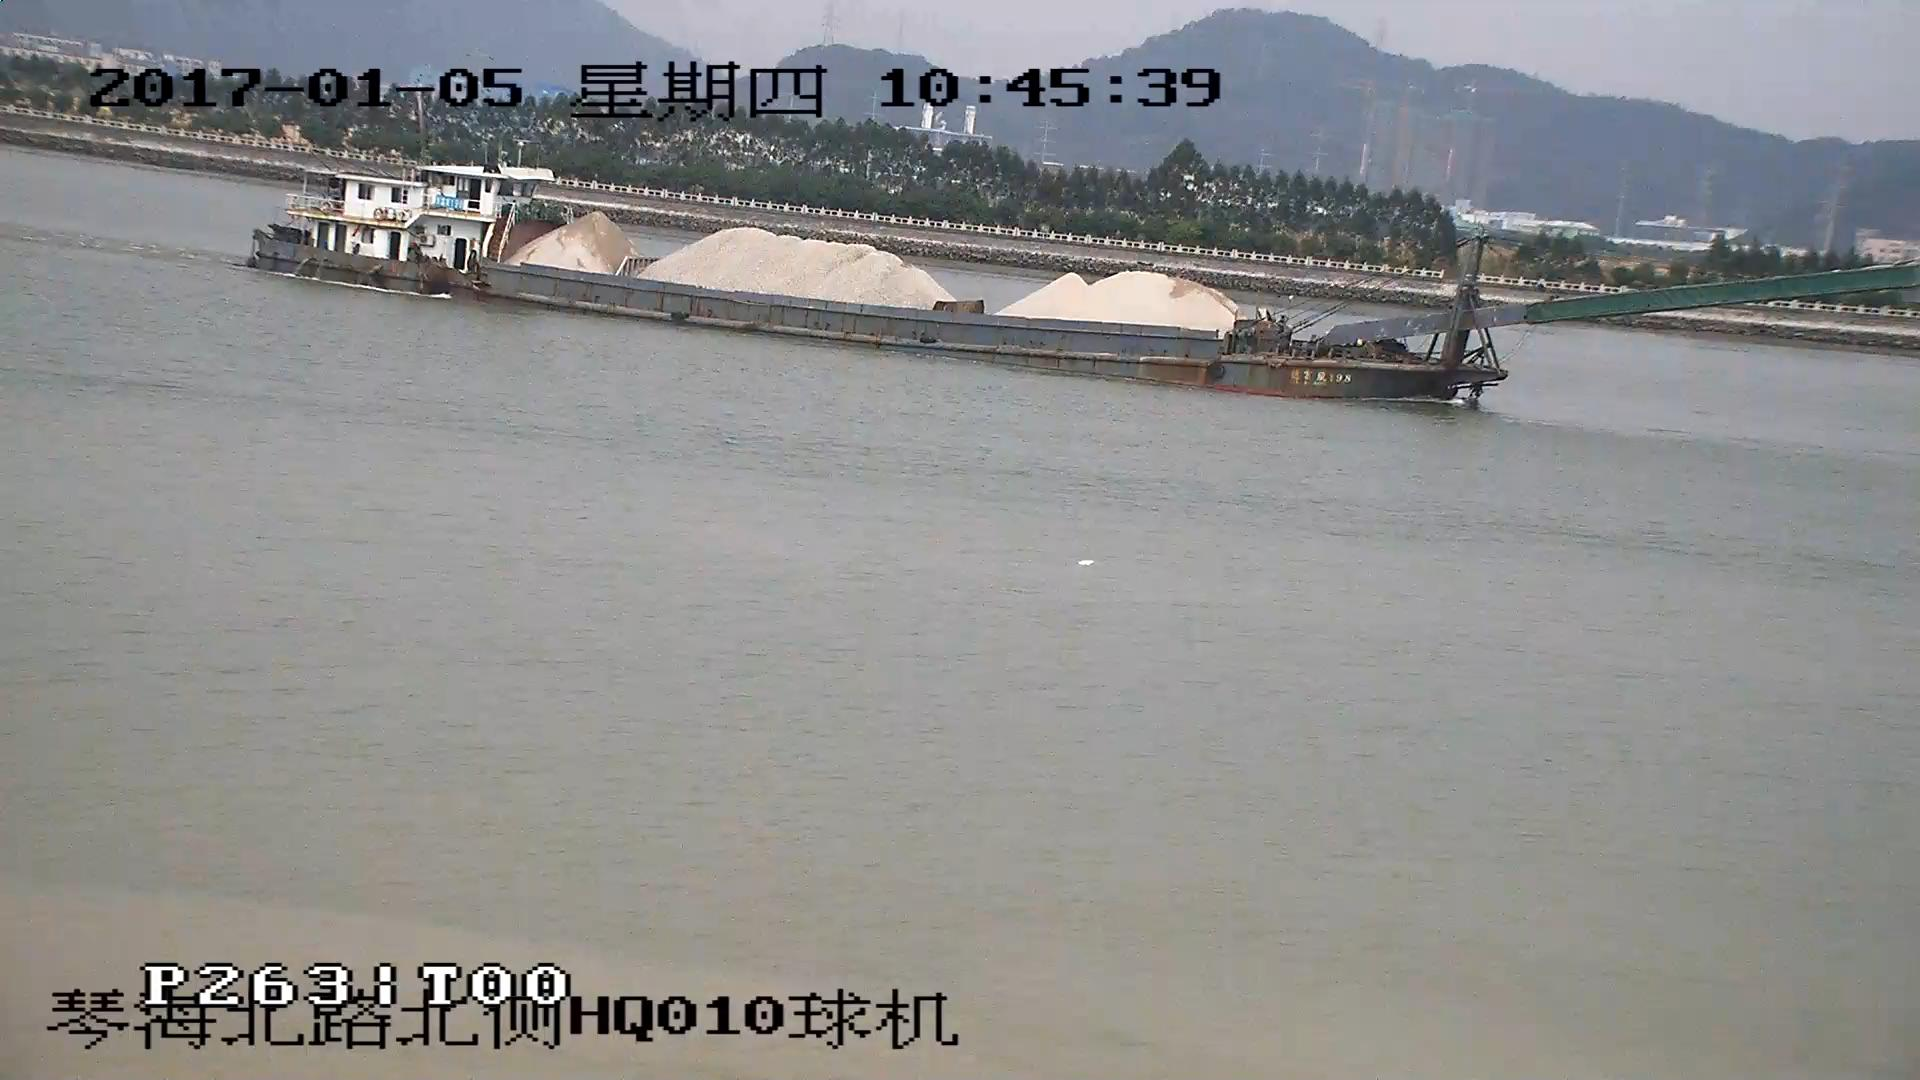ore carrier: (243, 158, 1919, 398)
